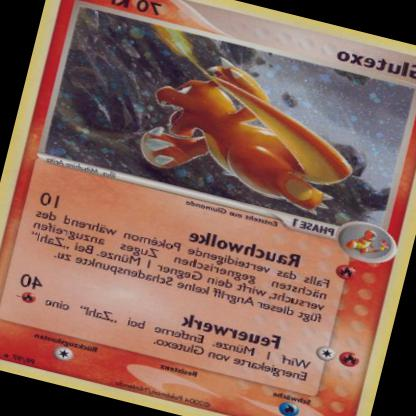Charmeleon: (125, 39, 375, 222)
